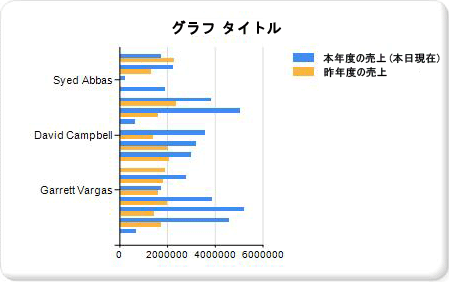canvas: (122, 48, 260, 244)
legend: (290, 46, 442, 81)
title: (170, 12, 284, 37)
x-axis: (111, 244, 266, 248)
x-labels: (114, 249, 284, 259)
y-axis: (114, 45, 121, 249)
y-labels: (34, 68, 112, 200)
